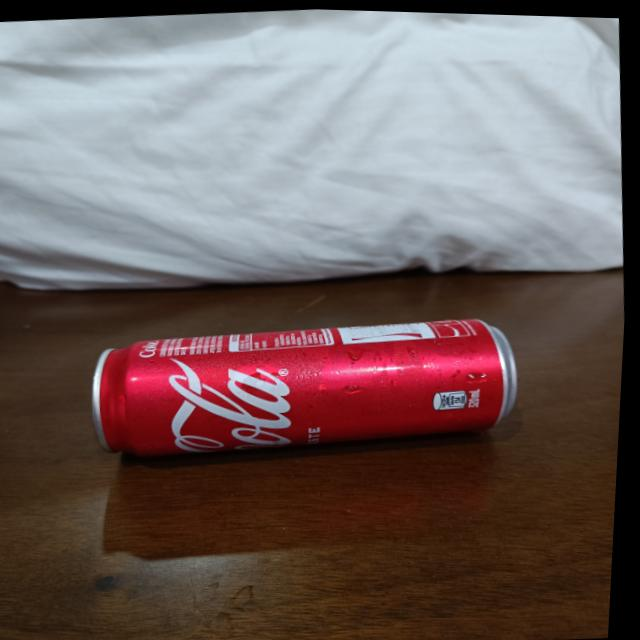coke: (93, 302, 524, 467)
